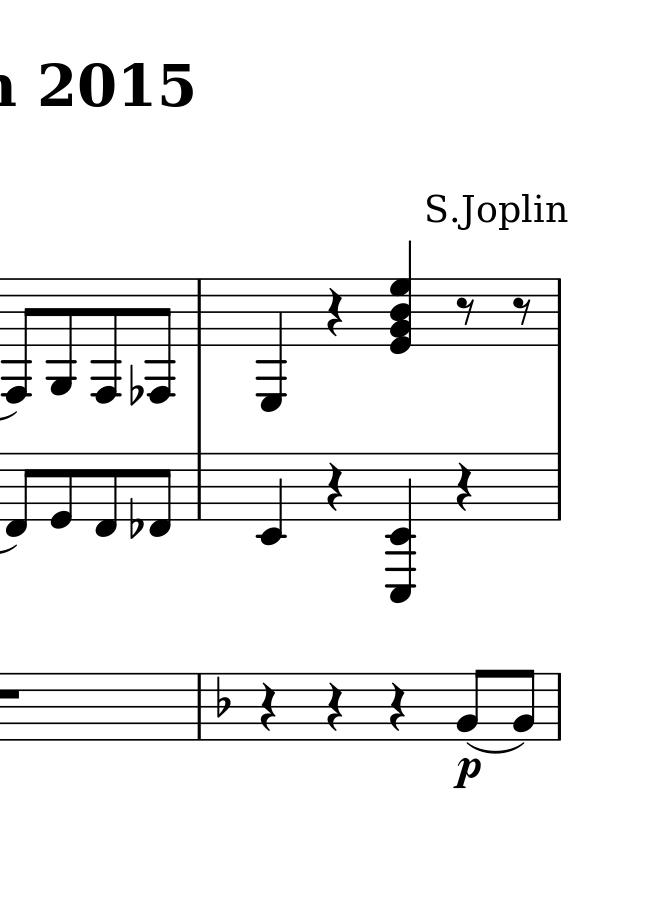4_-2: (260, 450, 286, 546)
4_-6: (260, 276, 285, 412)
4_-9_-2: (383, 451, 418, 605)
4_4th: (389, 240, 413, 356)
8_-1: (5, 450, 34, 538), (148, 450, 175, 537), (94, 451, 119, 539)
8_-5: (48, 276, 76, 396)
8_-6: (6, 276, 40, 405), (92, 273, 122, 403), (148, 275, 176, 405)
8_0: (50, 449, 76, 531)
8_2: (456, 668, 487, 744), (513, 668, 538, 744)
Flat: (215, 675, 231, 721), (127, 497, 143, 542), (129, 365, 146, 405)
Rests4: (323, 459, 346, 513), (387, 681, 409, 732), (456, 460, 475, 515), (259, 683, 278, 734), (325, 288, 344, 336), (327, 681, 345, 730)
Rests8: (455, 295, 476, 325), (513, 297, 532, 323)
Single_barline: (187, 453, 214, 523), (545, 453, 570, 523), (547, 278, 572, 346), (188, 278, 212, 346)
Slur: (547, 673, 572, 740), (191, 673, 210, 741), (465, 743, 525, 754)
p: (451, 756, 482, 794)
